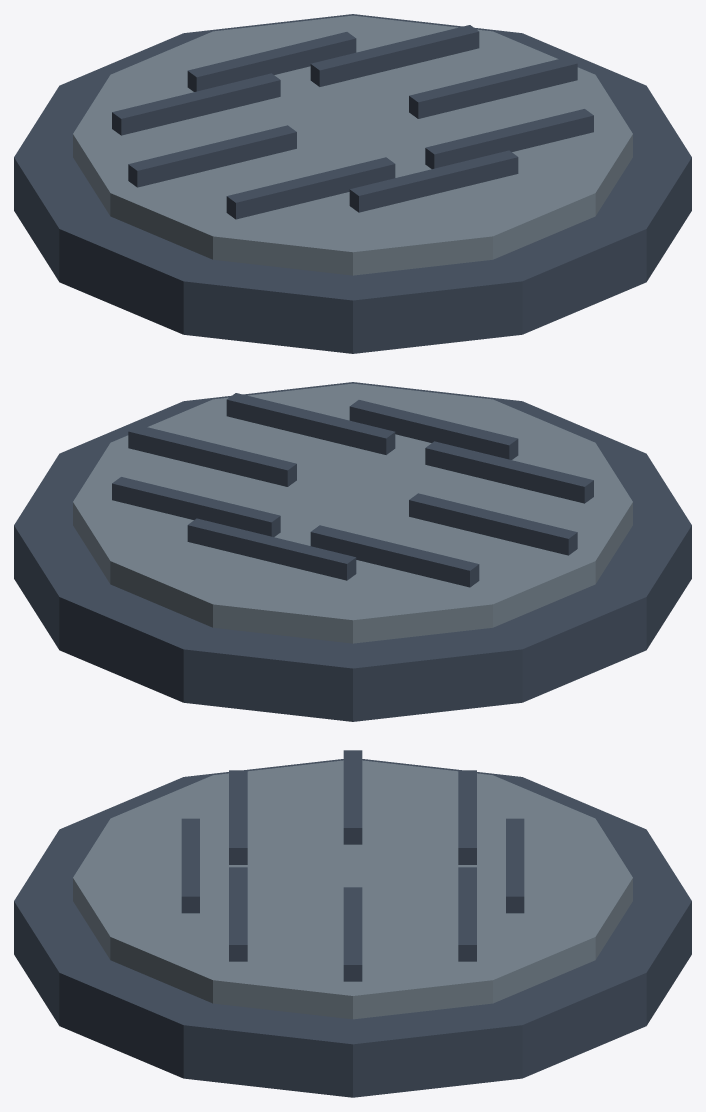
Rendered from manhole.glb.
3 views of the same model, one above another, from view 1: azimuth 30°, elevation 25°; view 2: azimuth 150°, elevation 25°; view 3: azimuth 270°, elevation 25° (orthographic).
Parts seen in each view (by area): view 1: manhole; view 2: manhole; view 3: manhole.
Part boxes in pixels (x1=…): manhole: x1=14, y1=14, x2=691, y2=353; manhole: x1=14, y1=382, x2=691, y2=721; manhole: x1=14, y1=750, x2=691, y2=1097.
Size of the model in its own units: 0.92 by 0.145 by 0.92.
